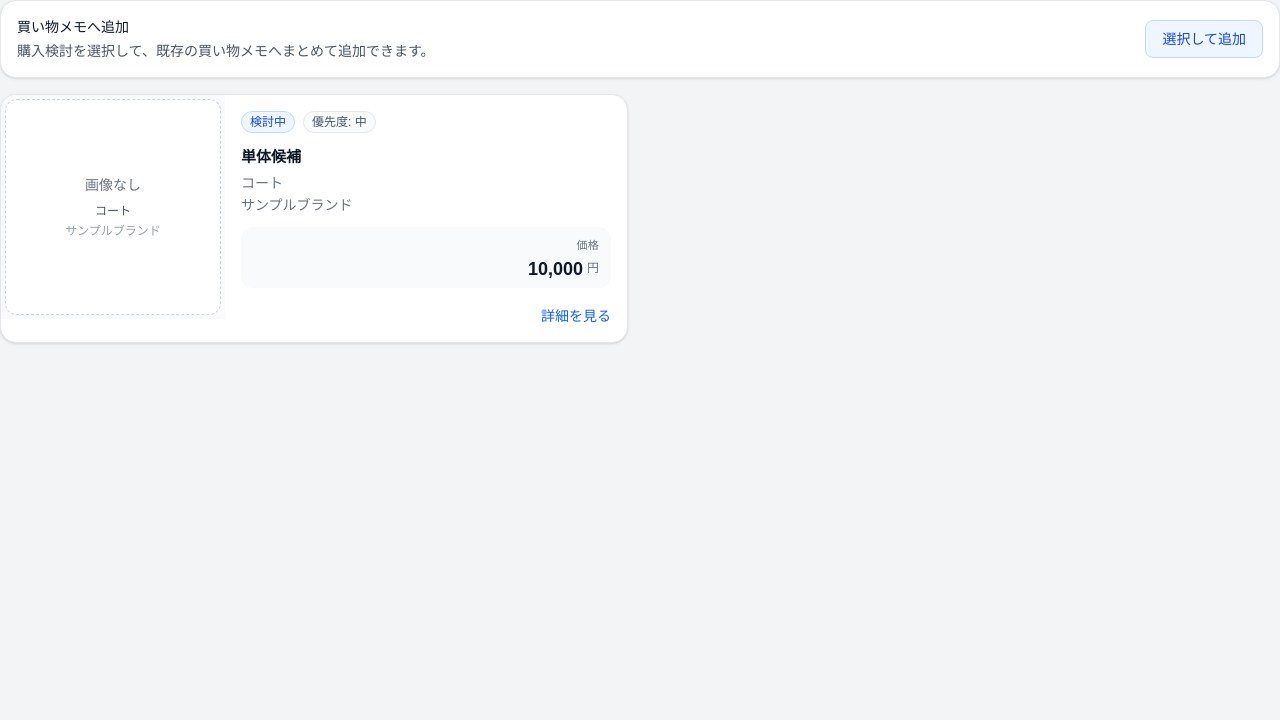
PurchaseCandidateShoppingMemoBulkAdd › 追加済みの単体候補は checked で表示され、disabled にはならない
The image size is (1280, 720).
Step 1. Click the button "選択して追加" → (1204, 39), box 1145,20 -> 1263,58
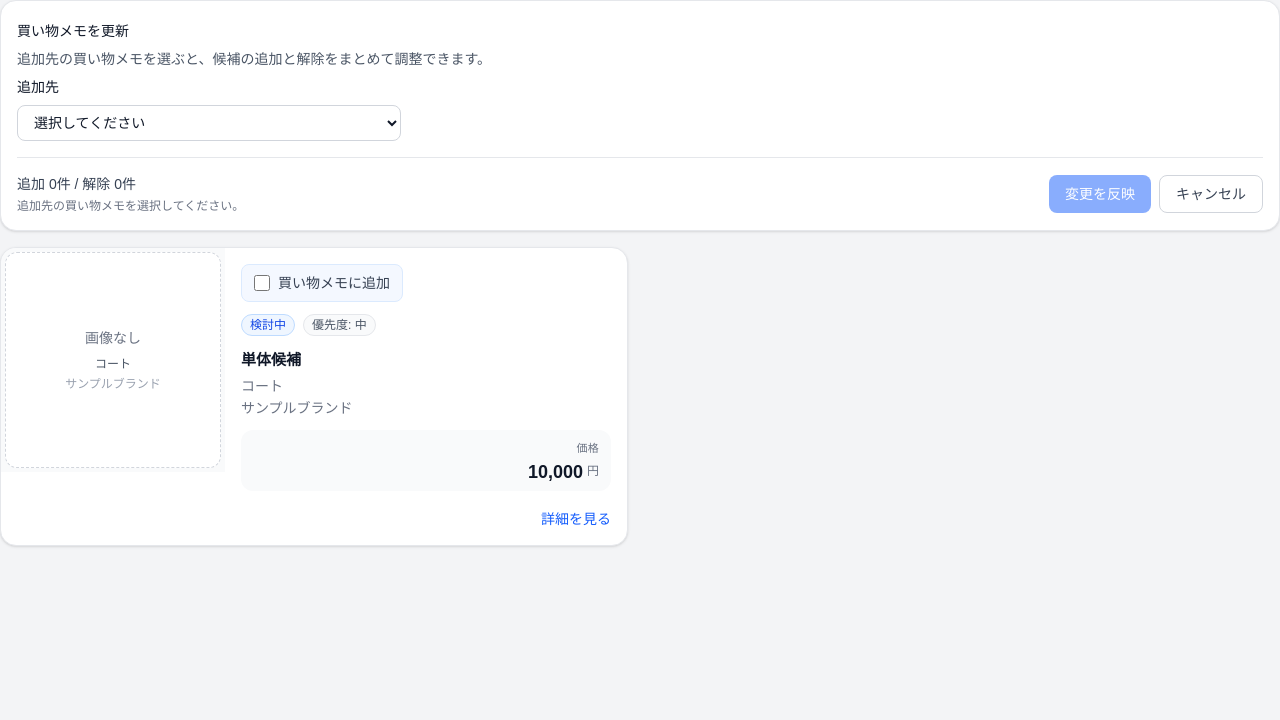
Step 2. Select "春夏物" in the dropdown labelled "追加先" → (209, 123), box 17,105 -> 401,141
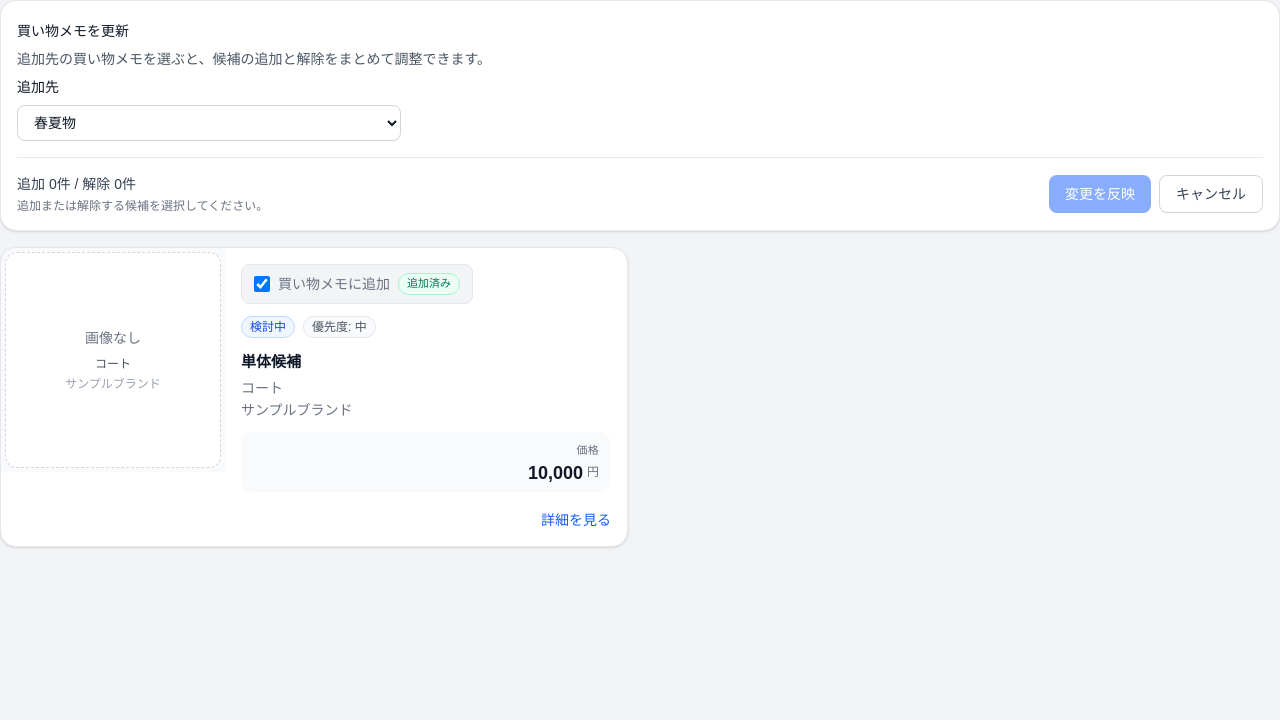
Expected: the checkbox with test id "purchase-candidate-checkbox-12" is enabled, 254,276 -> 270,292
Expected: the checkbox with test id "purchase-candidate-checkbox-12" is checked, 254,276 -> 270,292
Expected: the text "追加済み" is shown, 398,273 -> 460,295
